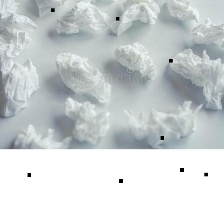tissue: (0, 0, 43, 121), (118, 95, 206, 148), (163, 44, 224, 114), (51, 48, 115, 108), (60, 92, 113, 148), (49, 0, 115, 40), (102, 0, 163, 39), (109, 39, 160, 84), (7, 119, 59, 148), (186, 12, 224, 48), (160, 0, 203, 26)
